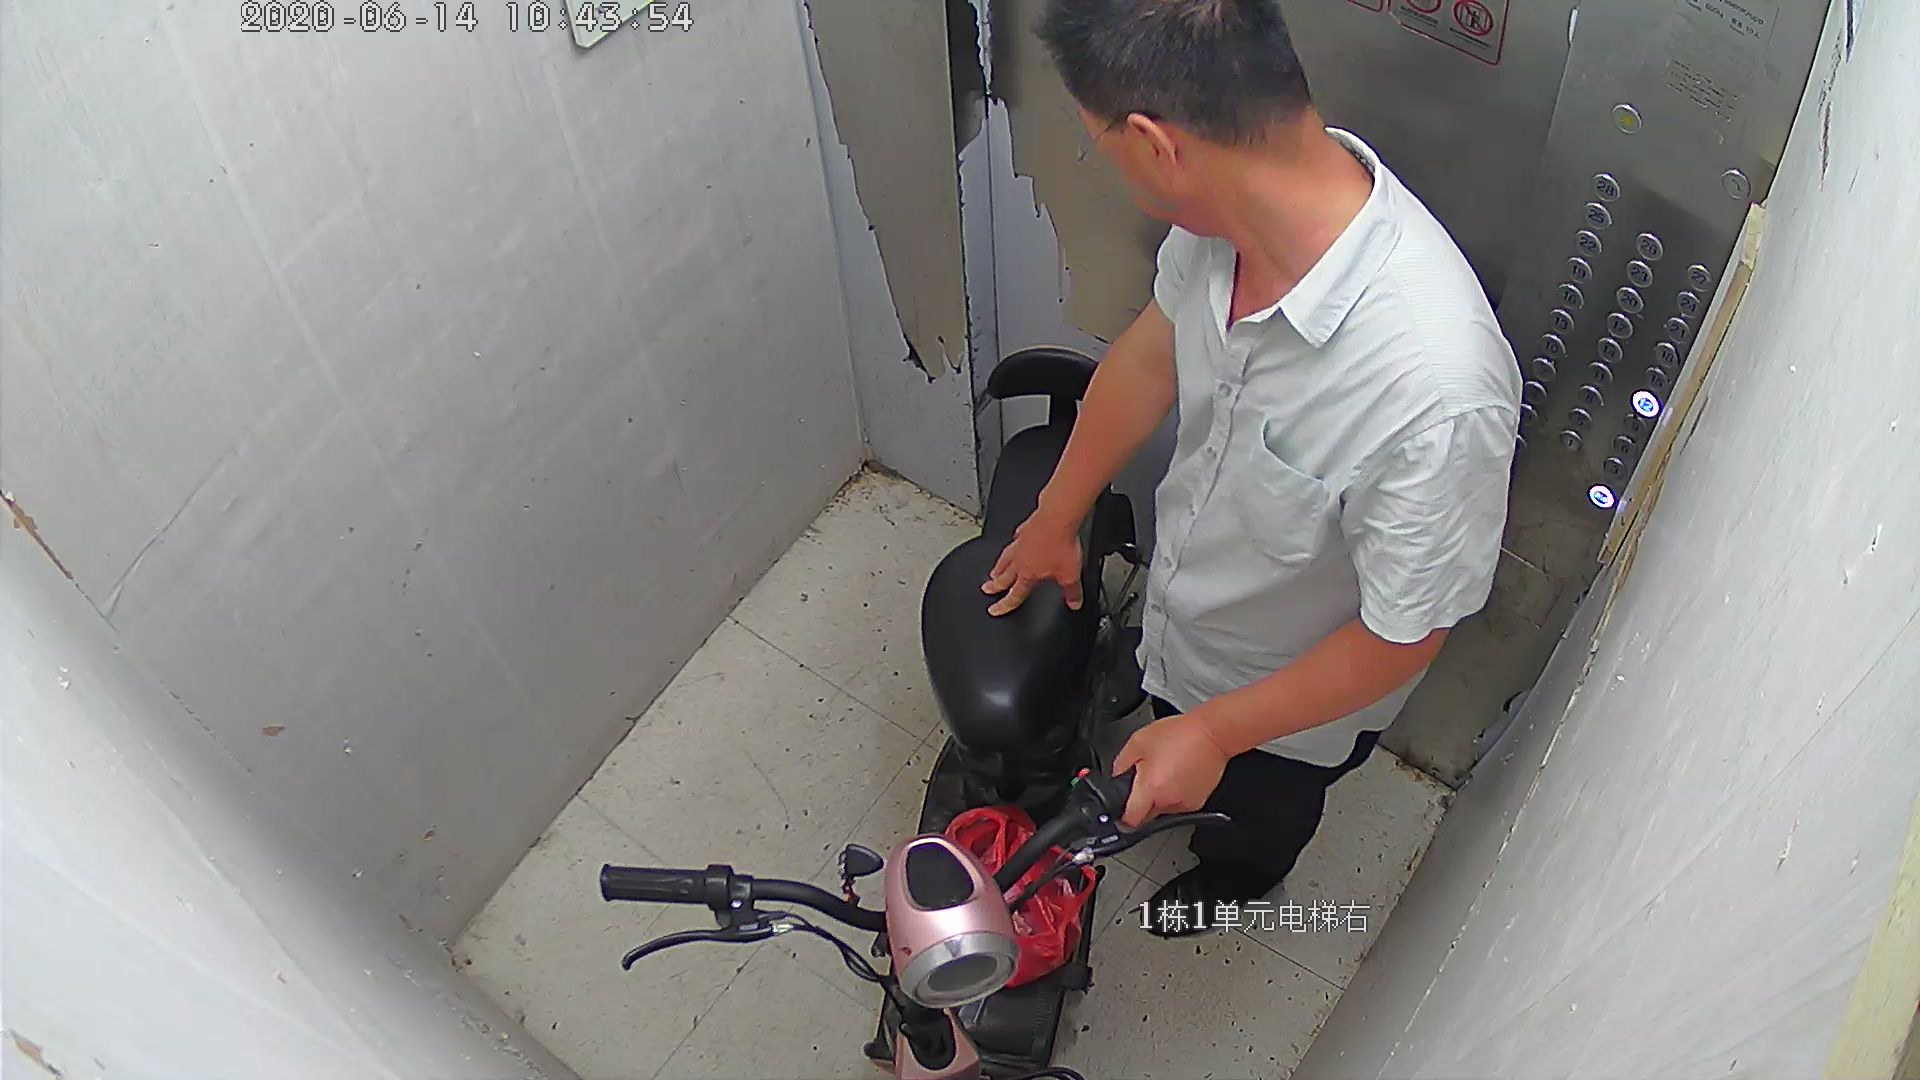Electric-bicycle: (603, 349, 1183, 1080)
